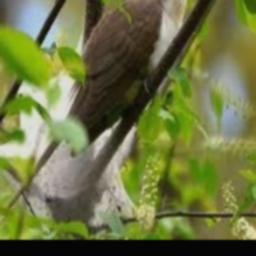Cuckoo: (7, 0, 201, 209)
